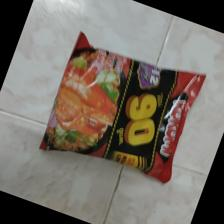Kokomi: (38, 33, 207, 184)
